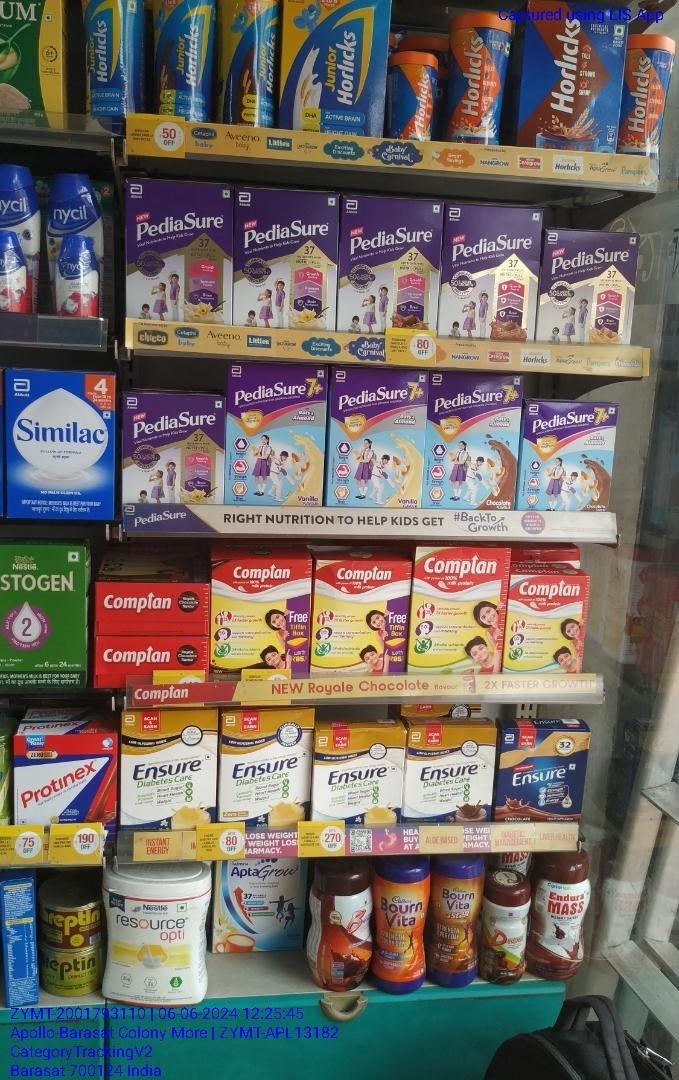BOURN_VITA_FIVE_STAR_MAGIC_500_G_JAR: (432, 854, 481, 986)
COMPLAN_CHOCOLATE_200_GMS_PACK: (209, 557, 311, 685)
COMPLAN_CREAMY_CLASSIC_500_G_PACK: (508, 572, 588, 675)
COMPLAN_KESAR_BADAM_200_GMS_PACK: (313, 558, 405, 680)
COMPLAN_PISTA_BADAM_500_GMS_PACK: (409, 543, 502, 672)
HORLICK_CHOCOLATE_500_G_JAR: (444, 11, 514, 146), (619, 33, 675, 156)
HORLICK_CLASSIC_MALT_200_G_JAR: (386, 49, 436, 143)
